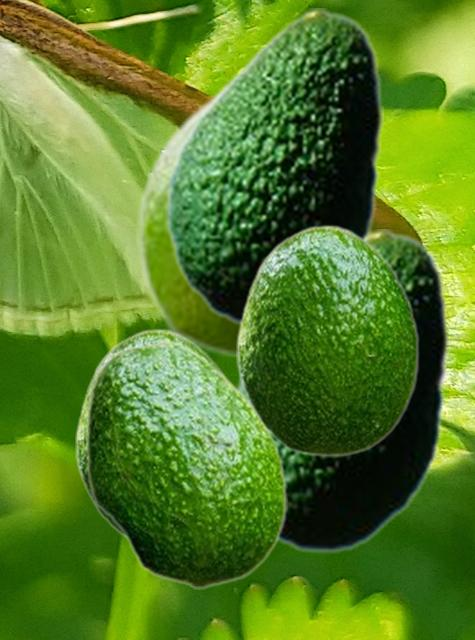avocado: (232, 229, 448, 553), (165, 8, 382, 326), (84, 338, 286, 588), (136, 29, 276, 359), (236, 224, 419, 456), (75, 328, 227, 540)
